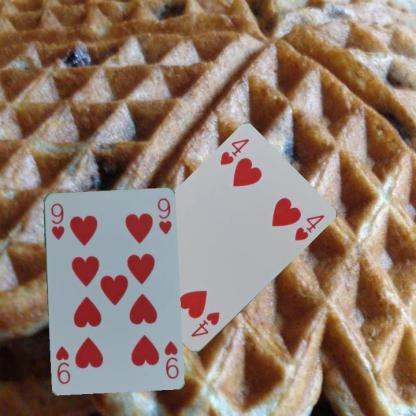4h: (217, 136, 251, 167), (188, 309, 221, 339)
9h: (161, 338, 180, 380), (47, 200, 66, 241)
